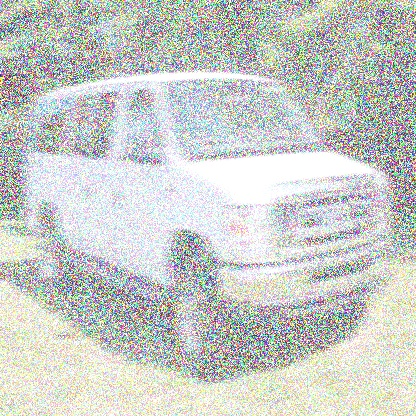Vehicle: (25, 72, 392, 364)
